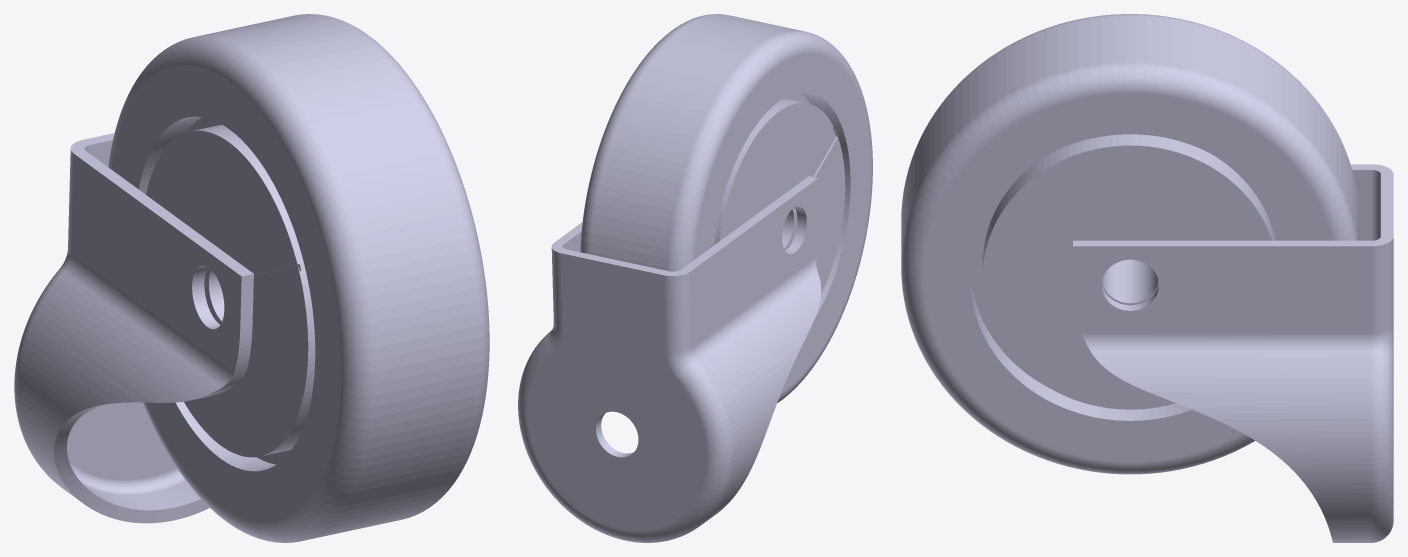
Rendered from caster_wheel.dae.
3 renders of one model, left to right at view 1: azimuth 30°, elevation 25°; view 2: azimuth 150°, elevation 25°; view 3: azimuth 270°, elevation 25°, orthographic. The views are drawn at different scales.
Visible parts, largest first — view 1: node0, node1, node2; view 2: node1, node0, node2; view 3: node2, node1, node0.
Boxes of the visible parts, x1,y1,x2,y2 form: node0: (108, 14, 489, 542); node1: (14, 133, 253, 523); node2: (122, 86, 330, 501); node1: (518, 176, 821, 542); node0: (580, 14, 872, 402); node2: (702, 69, 862, 370); node2: (942, 109, 1313, 445); node1: (1073, 164, 1393, 542); node0: (901, 14, 1359, 474).
Size of the model in its own units: 0.0635 by 0.1092 by 0.1214.
